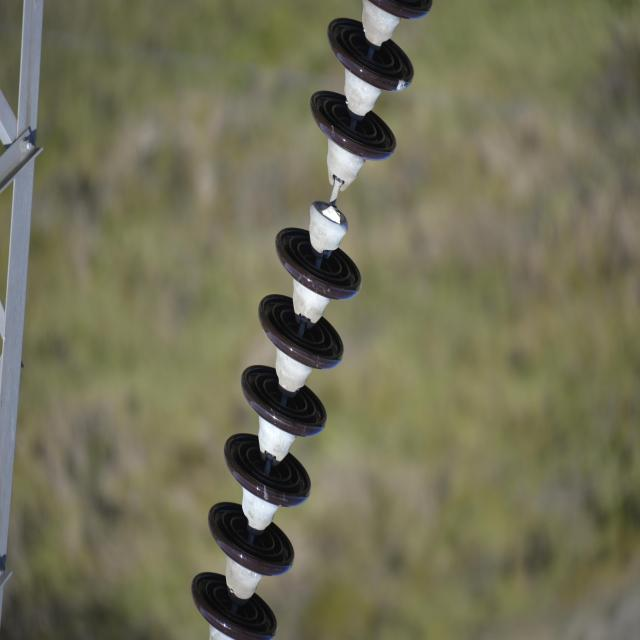broken: (314, 193, 346, 229)
insulator: (189, 0, 431, 637)
